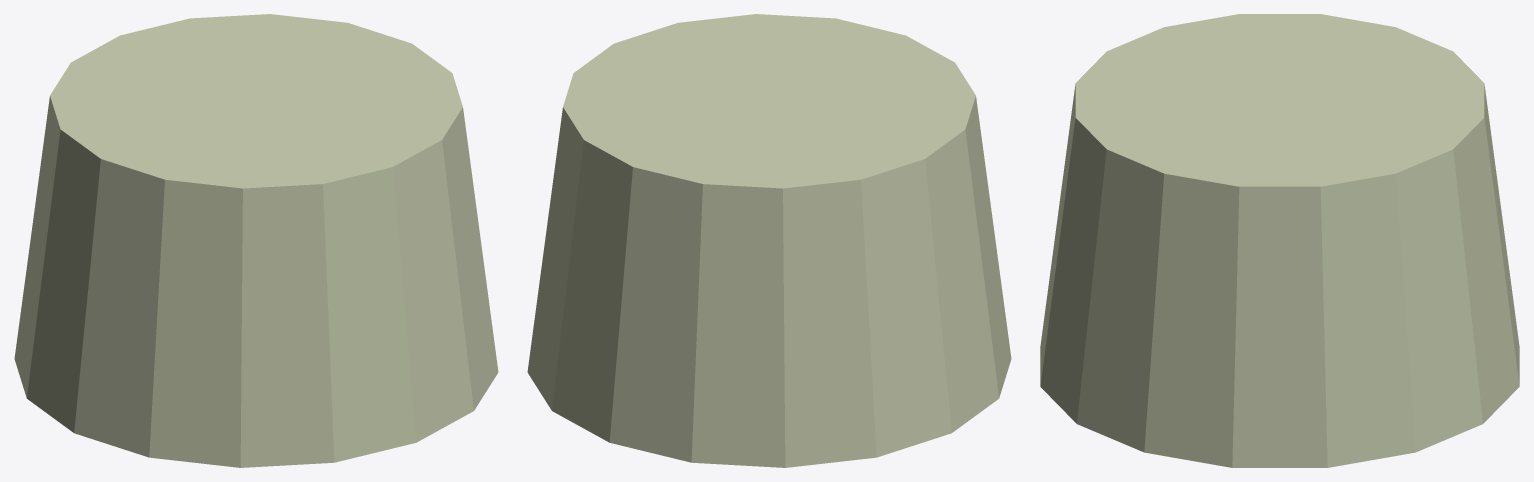
Rendered from octans_basic_docking_port_s0p5_1_collider.obj.
The picture shows the model from 3 angles, left to right: view 1: azimuth 30°, elevation 25°; view 2: azimuth 150°, elevation 25°; view 3: azimuth 270°, elevation 25°; orthographic projection.
Parts seen in each view (by area): view 1: collider; view 2: collider; view 3: collider.
Part boxes in pixels (x1,y1,x2,y2): collider: (14,14,498,467); collider: (527,14,1011,467); collider: (1040,14,1519,467).
Bounding box in the file's own units: 0.9375 × 0.575 × 0.9375.
